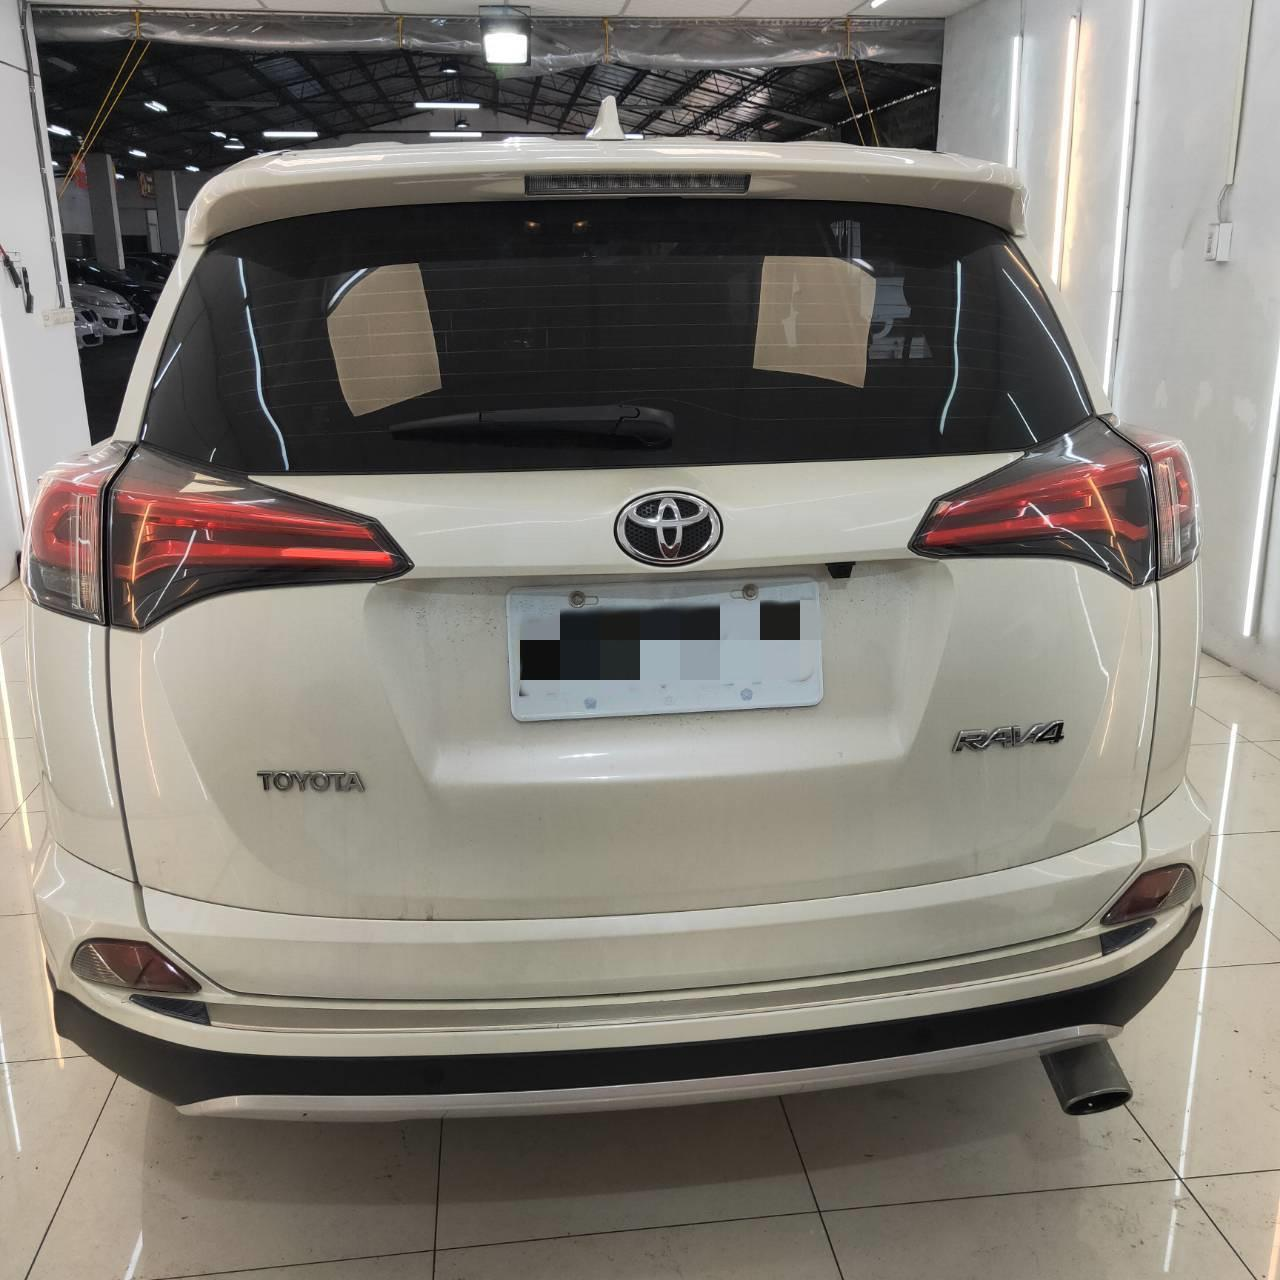toyota_rav4: (35, 150, 1199, 1064)
